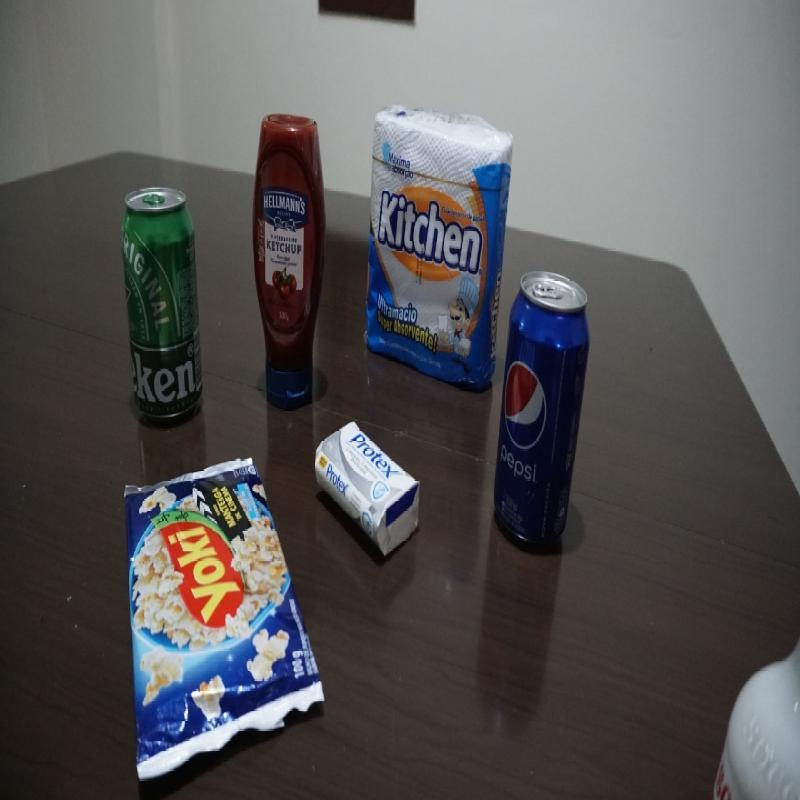Beer can: (118, 182, 204, 431)
Coconut Milk: (709, 618, 800, 799)
Ketchup: (248, 109, 333, 415)
Napkin: (362, 102, 514, 392)
Popcorn: (124, 456, 324, 788)
Soap: (313, 420, 422, 564)
Soda can: (490, 268, 593, 549)
